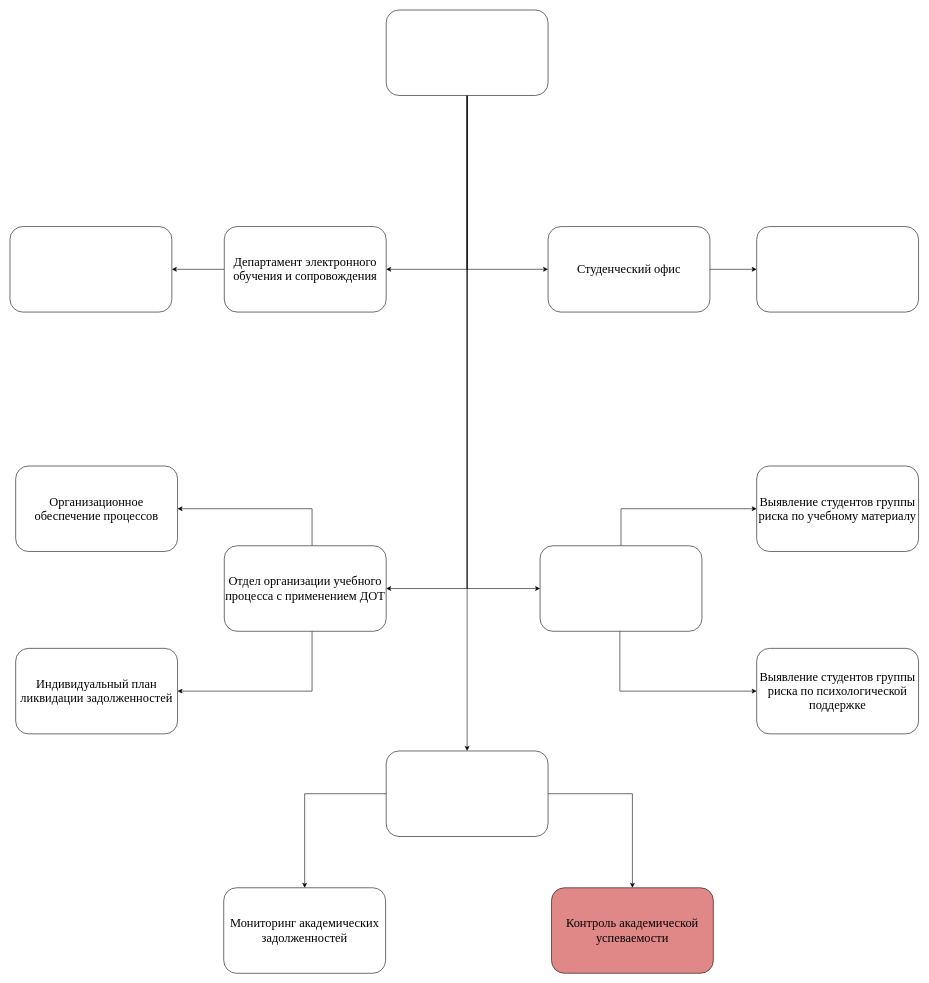
Some shapes in this 929 by 983 pixel diagram are drawn without their labels. The shapes that lost their labels are listed below. From the top down, each one's centre as x and y in pixels, then its label:
point 467,52: Бизнес-направления
point 90,269: Контроль соблюдения академических стандартов
point 837,269: Обработка заявлений на продление сроков ликвидации задолженности
point 621,588: Группа сопровождения интерактивных занятий
point 467,793: Отдел информационного и документационного сопровождения обучающихся
